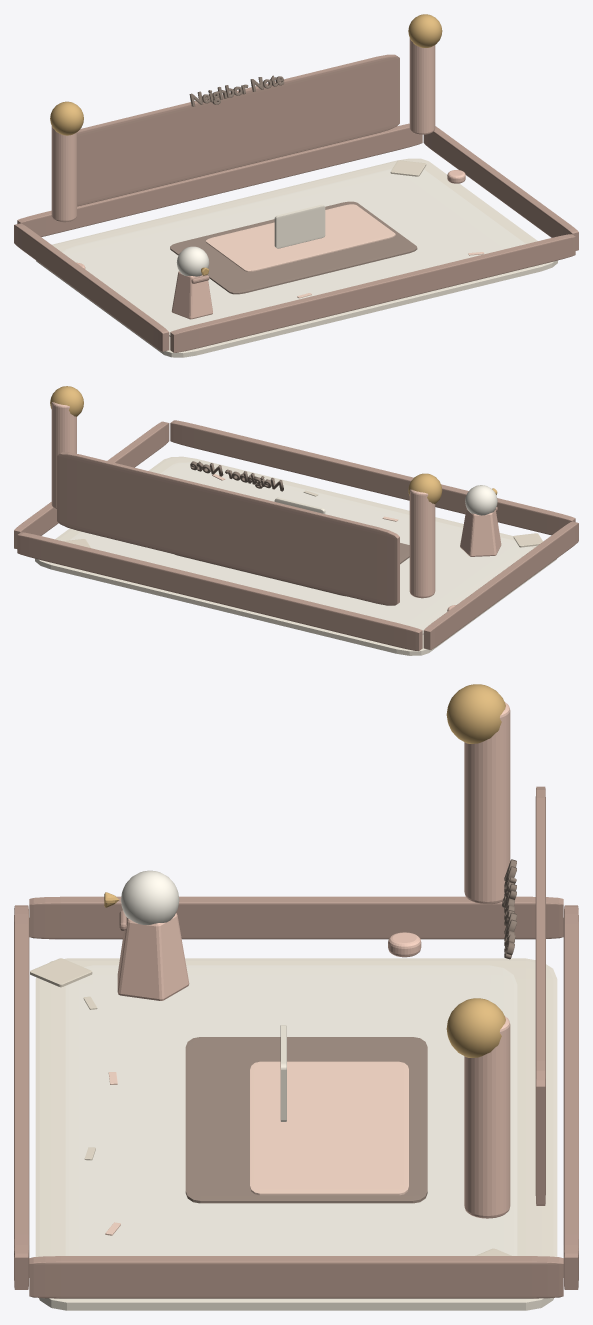
Rendered from 12_conversations.glb.
3 renders of one model, top to bottom at view 1: azimuth 30°, elevation 25°; view 2: azimuth 150°, elevation 25°; view 3: azimuth 270°, elevation 25°, orthographic. The views are drawn at different scales.
Parts seen in each view (by area): view 1: BackCard, FloorLayerInset, SouthRail-col, NorthRail-col, PaperFloor-col, StageMat, StageMatHighlight, WestRail-col, EastRail-col, PaperLantern.001, FpeRushPlayer, PaperLantern (+5 smaller); view 2: BackCard, FloorLayerInset, NorthRail-col, SouthRail-col, PaperFloor-col, WestRail-col, PaperLantern, FpeRushPlayer, EastRail-col, PaperLantern.001, TitleLabel, LanternGlow.001 (+2 smaller); view 3: FloorLayerInset, PaperFloor-col, EastRail-col, StageMatHighlight, WestRail-col, StageMat, PaperLantern.001, PaperLantern, FpeRushPlayer, NorthRail-col, SouthRail-col, BackCard (+4 smaller).
Part boxes in pixels (bbox=[...]): BackCard: bbox=[77, 54, 399, 206]; FloorLayerInset: bbox=[62, 168, 525, 336]; SouthRail-col: bbox=[170, 234, 575, 352]; NorthRail-col: bbox=[17, 123, 422, 236]; PaperFloor-col: bbox=[36, 158, 557, 357]; StageMat: bbox=[170, 201, 417, 294]; StageMatHighlight: bbox=[206, 204, 395, 271]; WestRail-col: bbox=[14, 223, 169, 351]; EastRail-col: bbox=[423, 126, 578, 250]; PaperLantern.001: bbox=[409, 38, 435, 134]; FpeRushPlayer: bbox=[171, 246, 212, 319]; PaperLantern: bbox=[51, 126, 76, 222]; BackCard: bbox=[57, 452, 399, 605]; FloorLayerInset: bbox=[70, 462, 533, 634]; NorthRail-col: bbox=[17, 532, 422, 650]; SouthRail-col: bbox=[170, 420, 575, 535]; PaperFloor-col: bbox=[35, 456, 556, 655]; WestRail-col: bbox=[423, 521, 578, 649]; PaperLantern: bbox=[409, 489, 435, 598]; FpeRushPlayer: bbox=[460, 485, 501, 556]; EastRail-col: bbox=[14, 421, 169, 548]; PaperLantern.001: bbox=[51, 402, 76, 509]; TitleLabel: bbox=[190, 461, 283, 491]; LanternGlow.001: bbox=[50, 386, 83, 416]; FloorLayerInset: bbox=[65, 965, 517, 1255]; PaperFloor-col: bbox=[35, 958, 557, 1310]; EastRail-col: bbox=[29, 1256, 563, 1298]; StageMatHighlight: bbox=[250, 1061, 408, 1195]; WestRail-col: bbox=[29, 896, 563, 939]; StageMat: bbox=[185, 1037, 427, 1203]; PaperLantern.001: bbox=[464, 1016, 510, 1218]; PaperLantern: bbox=[464, 702, 510, 904]; FpeRushPlayer: bbox=[104, 870, 189, 1000]; NorthRail-col: bbox=[563, 905, 578, 1289]; SouthRail-col: bbox=[14, 905, 29, 1289]; BackCard: bbox=[535, 786, 545, 1205].
Size of the model in its own units: 6.8 by 2.56 by 4.44.
